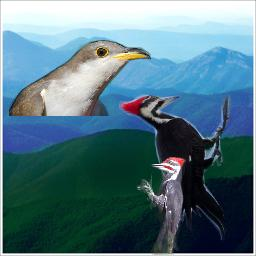Cuckoo: (9, 40, 151, 116)
Woodpecker: (119, 94, 231, 241), (136, 157, 186, 255)
